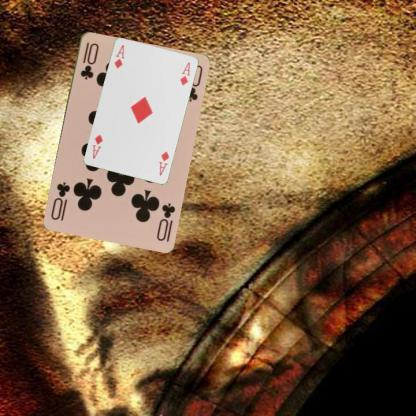10c: (77, 39, 100, 81), (154, 200, 176, 242)
Ad: (156, 148, 170, 177), (112, 42, 126, 69)
